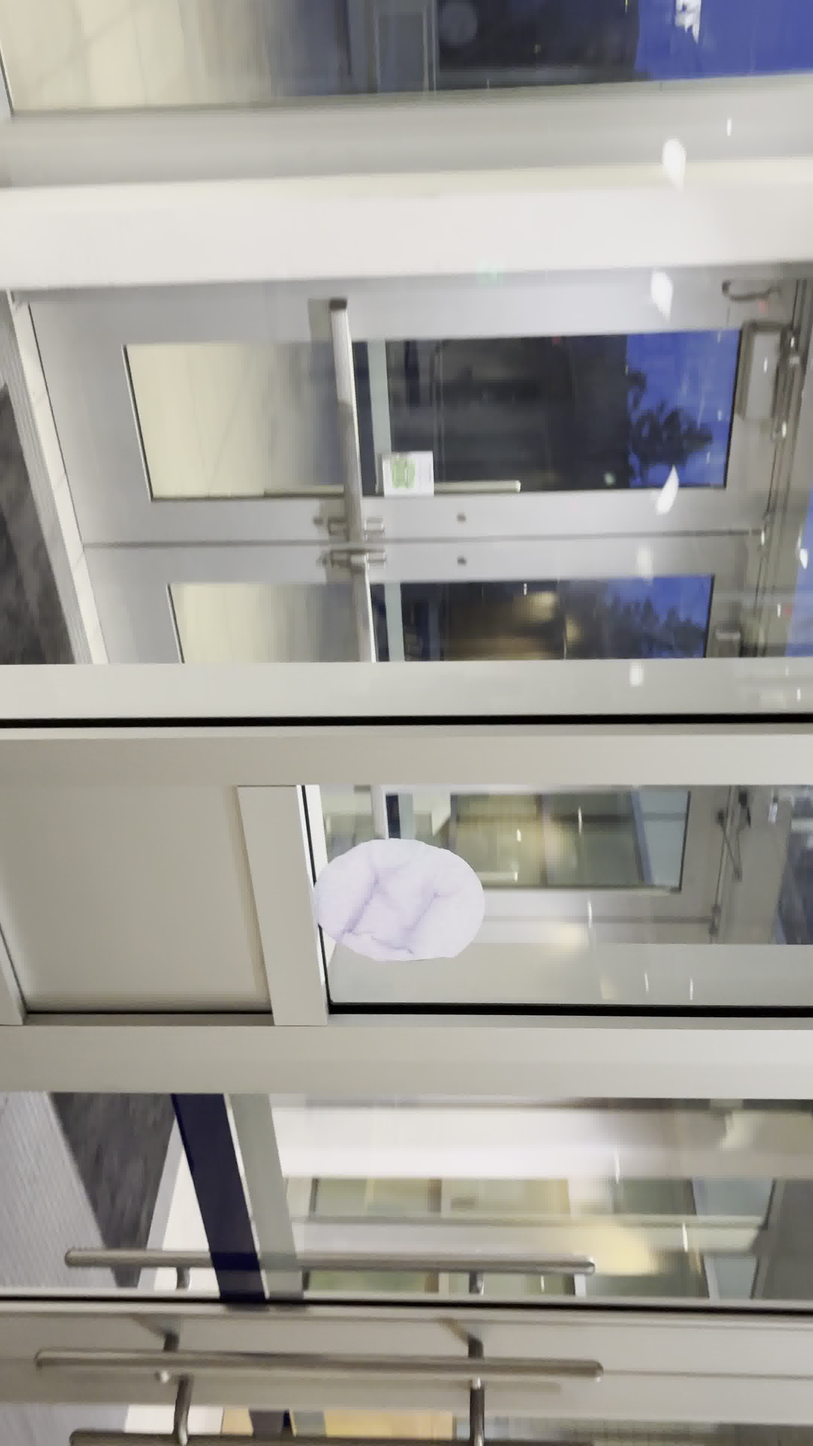Target: (312, 835, 494, 966)
